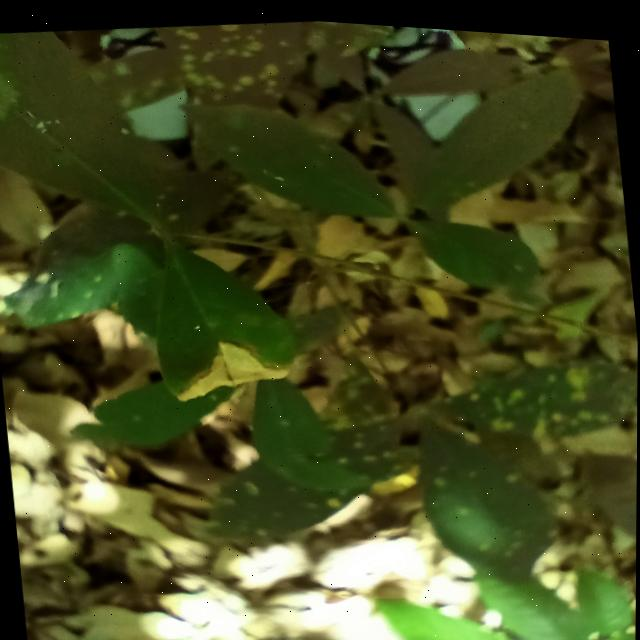Leaf-Blight: (171, 330, 293, 404)
